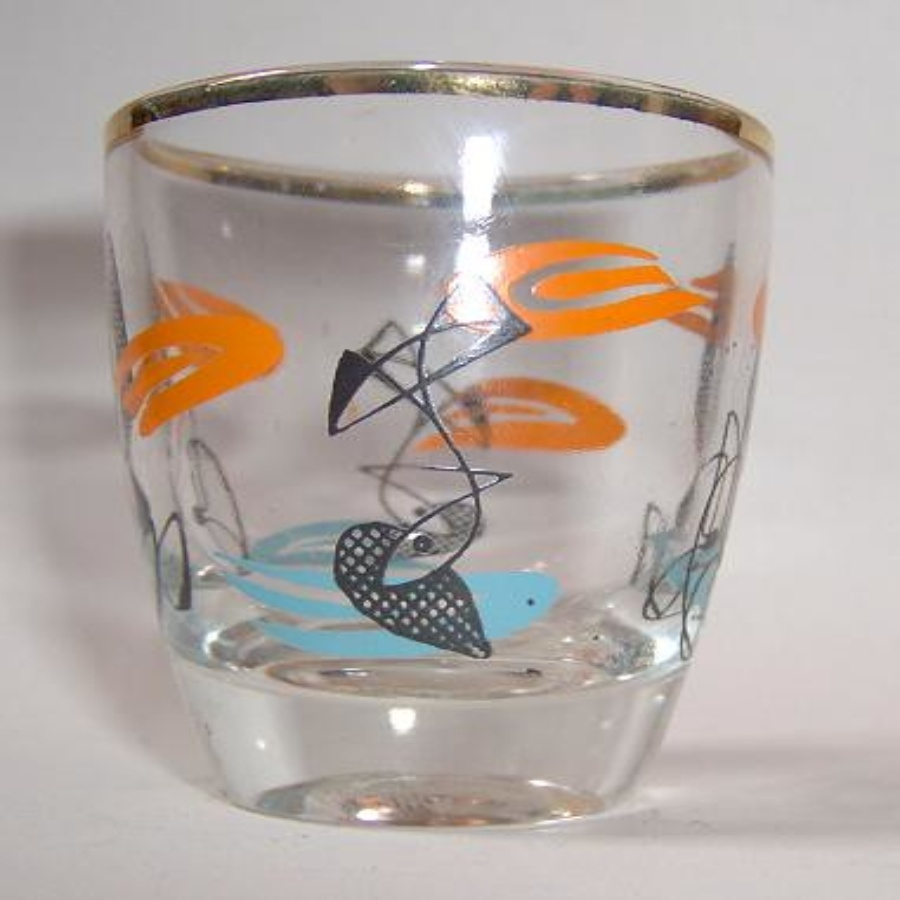whiskey: (82, 69, 771, 828)
